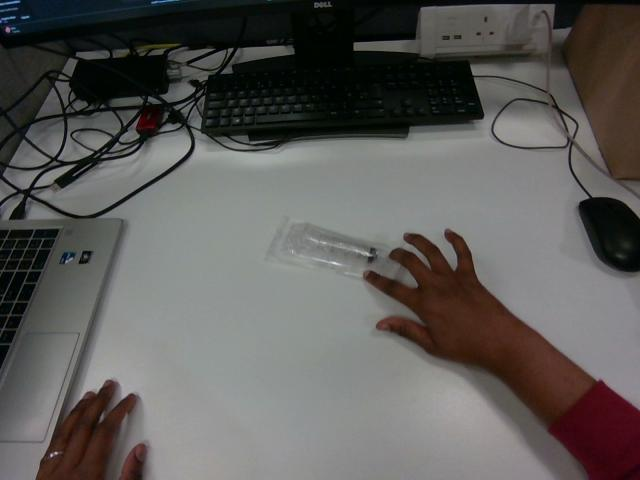syringe: (267, 217, 400, 277)
